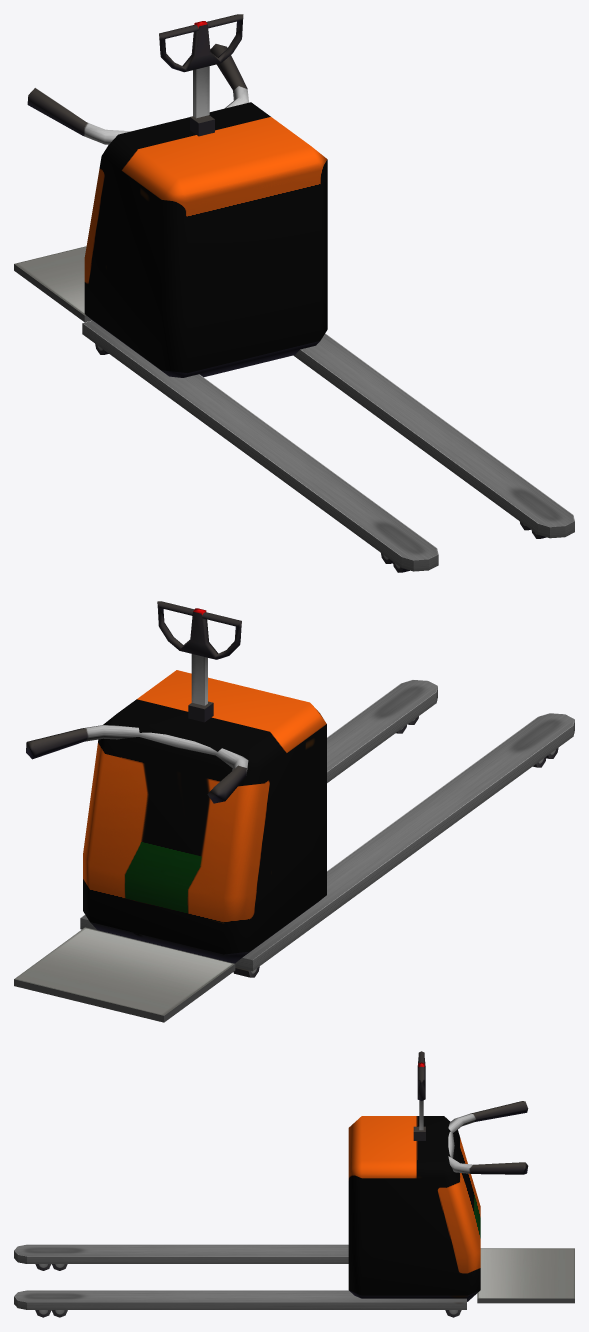
The picture shows the model from 3 angles, top to bottom: view 1: azimuth 30°, elevation 25°; view 2: azimuth 150°, elevation 25°; view 3: azimuth 270°, elevation 25°; orthographic projection. The views are drawn at different scales.
Parts seen in each view (by area): view 1: pasted__pasted__PEBody, pasted__pasted__PEConsole; view 2: pasted__pasted__PEBody, pasted__pasted__PEConsole; view 3: pasted__pasted__PEBody, pasted__pasted__PEConsole.
Part boxes in pixels (x1,y1,x2,y2): pasted__pasted__PEBody: (14, 44, 574, 572); pasted__pasted__PEConsole: (159, 14, 243, 118); pasted__pasted__PEBody: (14, 670, 574, 1022); pasted__pasted__PEConsole: (157, 601, 241, 705); pasted__pasted__PEBody: (14, 1101, 574, 1317); pasted__pasted__PEConsole: (417, 1051, 425, 1130).
Size of the model in its own units: 30.25 by 48.12 by 107.
